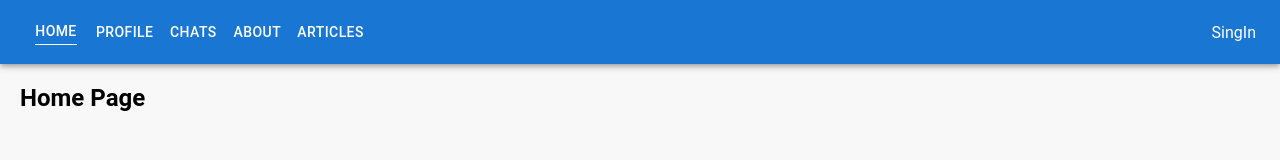
Test case: App › navigates About when you click About
Step 1. Click the link with id "About" → click(257, 32), box [234,20,281,44]
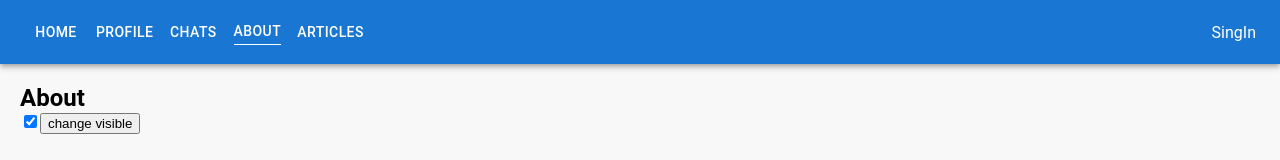
Expected: the button "change visible" is shown, [40,113,140,134]
